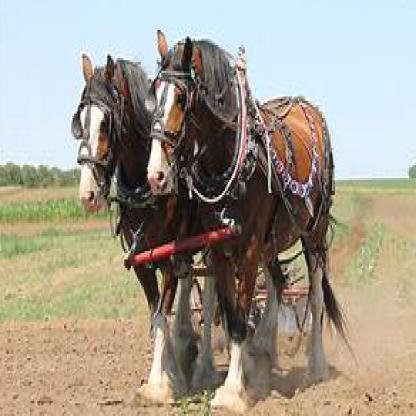horse: (147, 28, 345, 407), (71, 51, 174, 412)
